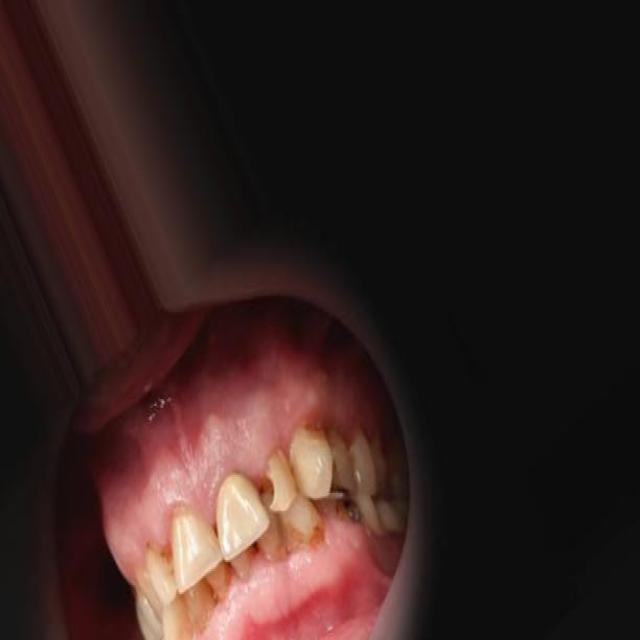caries: (296, 510, 332, 562), (294, 404, 332, 453), (335, 492, 367, 536), (256, 468, 283, 513)
